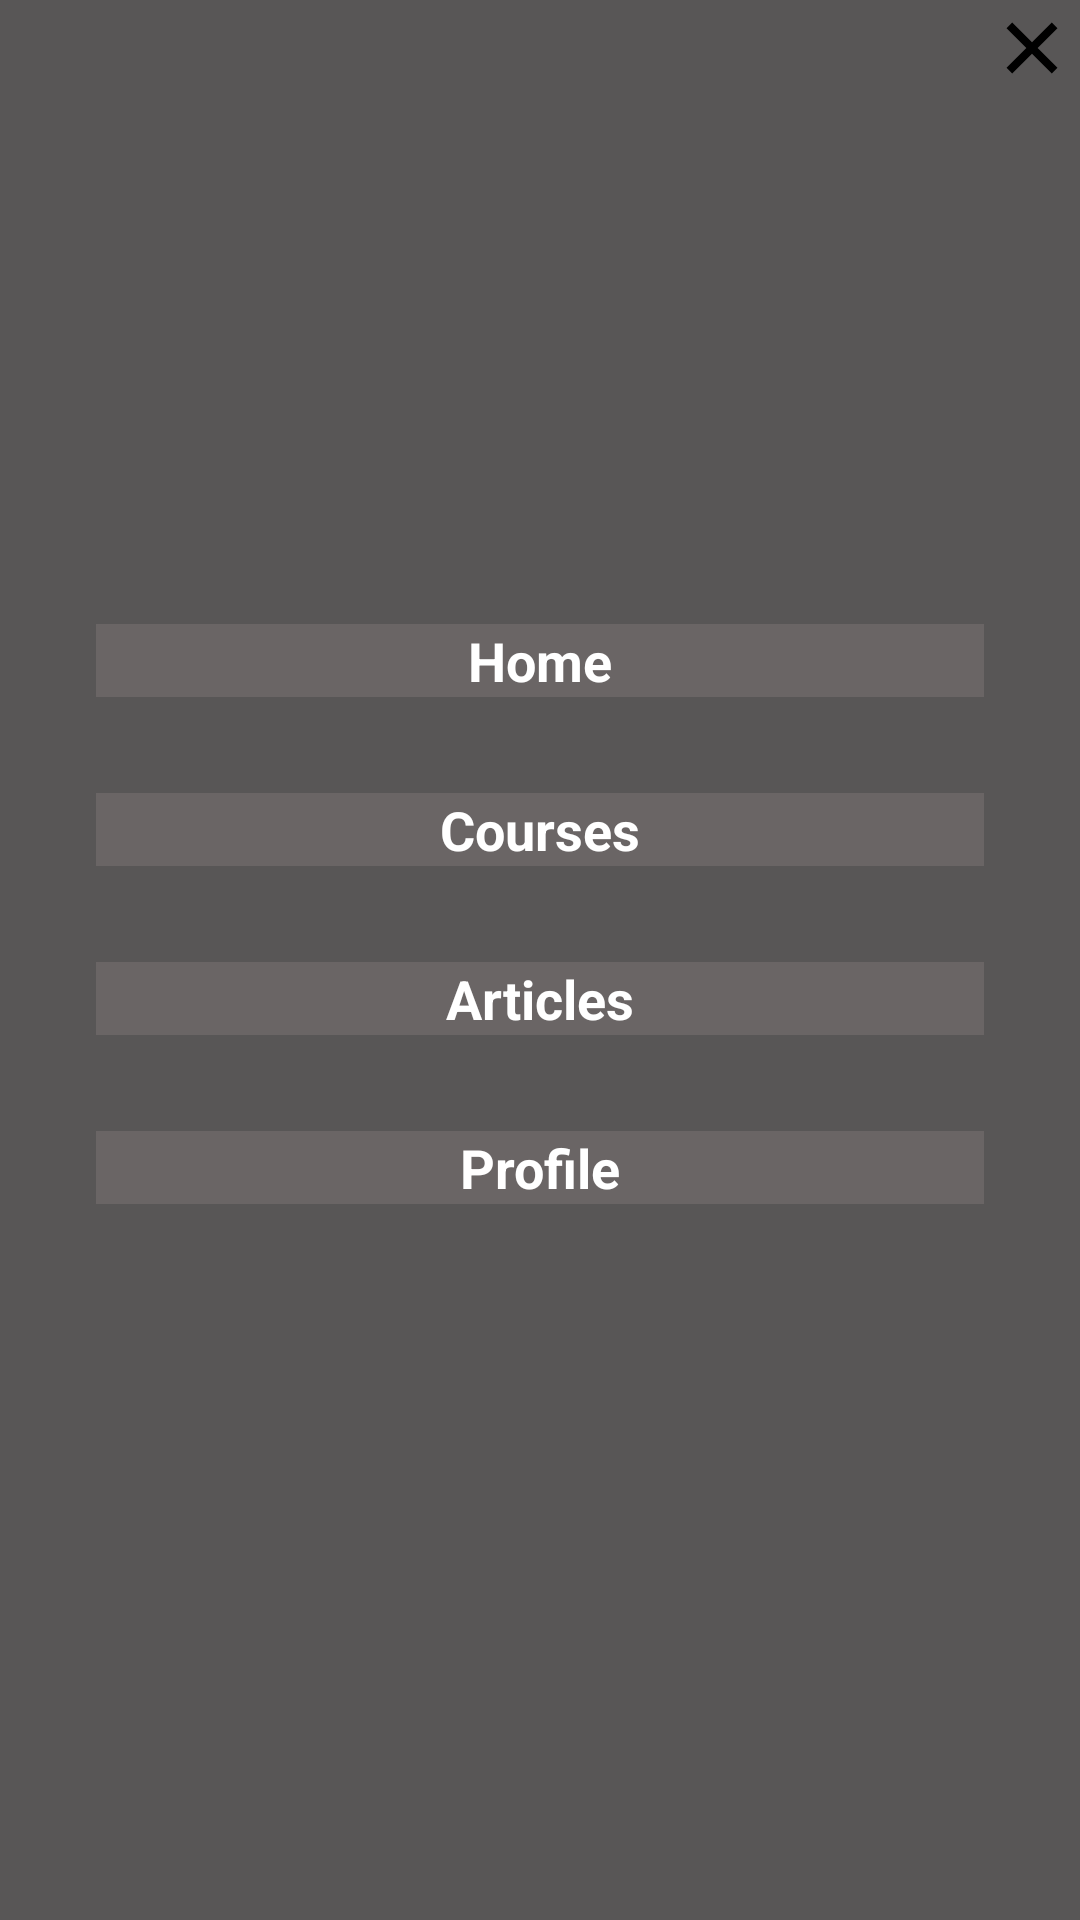

Named icons in this screenshot (1080x1920) and their bounding boxes, {"x1": x1, "y1": y1, "x2": x2, "y2": y2}:
multiplication: {"x1": 1007, "y1": 23, "x2": 1057, "y2": 73}
